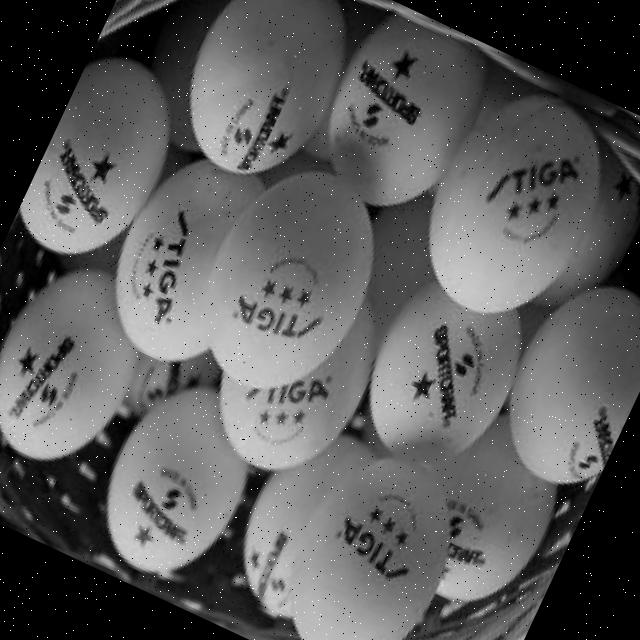ping-pong-ball: (396, 62, 629, 338), (179, 154, 403, 413), (86, 145, 294, 384), (78, 366, 278, 596), (4, 50, 196, 287), (341, 276, 541, 496), (266, 438, 477, 640), (162, 0, 372, 195), (0, 245, 168, 482), (481, 266, 640, 501)
